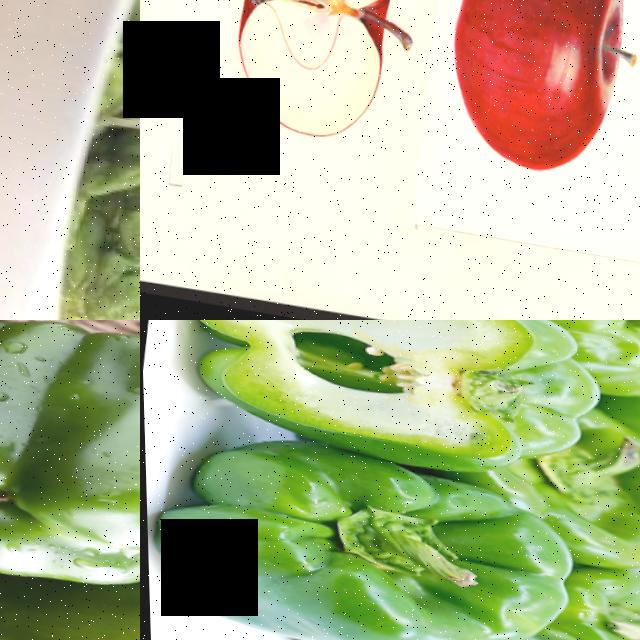apple: (423, 0, 640, 217), (186, 0, 432, 187)
asparagus: (74, 0, 140, 320)
bell pepper: (166, 433, 544, 640), (182, 320, 582, 481), (0, 320, 140, 536), (506, 559, 640, 640)
